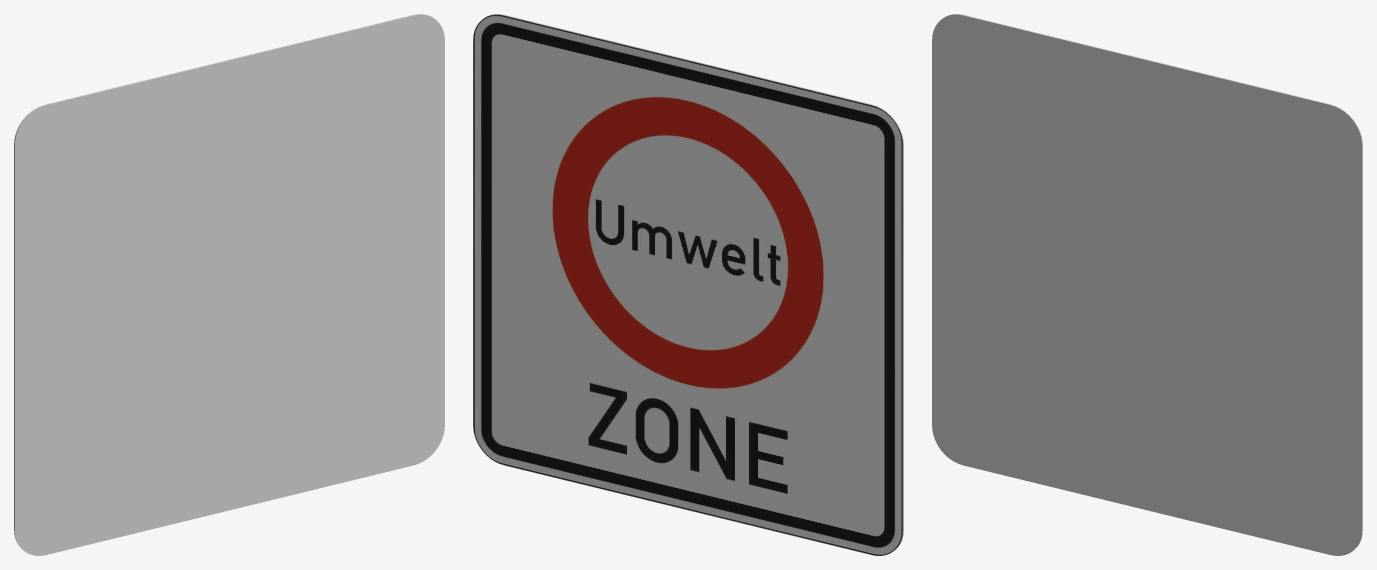
3 views of the same model, side by side, from view 1: azimuth 30°, elevation 25°; view 2: azimuth 150°, elevation 25°; view 3: azimuth 330°, elevation 25° (orthographic).
Visible parts, largest first — view 1: Plane; view 2: Plane; view 3: Plane.
Part boxes in pixels (bbox=[...]): Plane: bbox=[14, 14, 444, 555]; Plane: bbox=[473, 14, 903, 555]; Plane: bbox=[932, 14, 1362, 555].
Size of the model in its own units: 0.6 by 0.6 by 0.002.
Materials: 2 (1 with a texture image).
